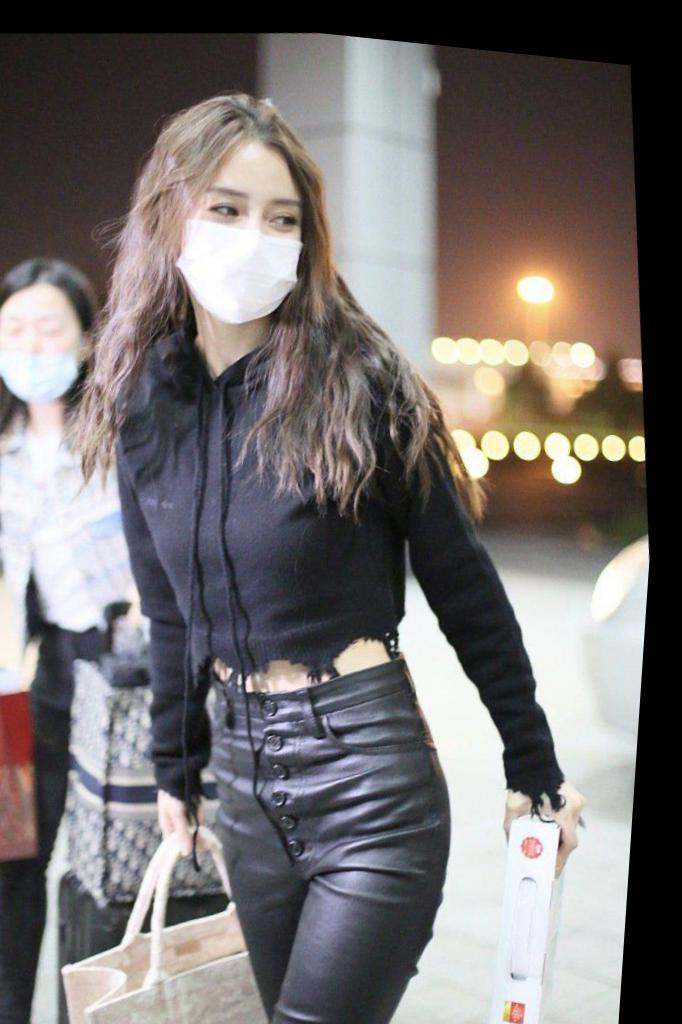OK: (173, 150, 319, 329)
WRONG: (1, 293, 99, 409)
